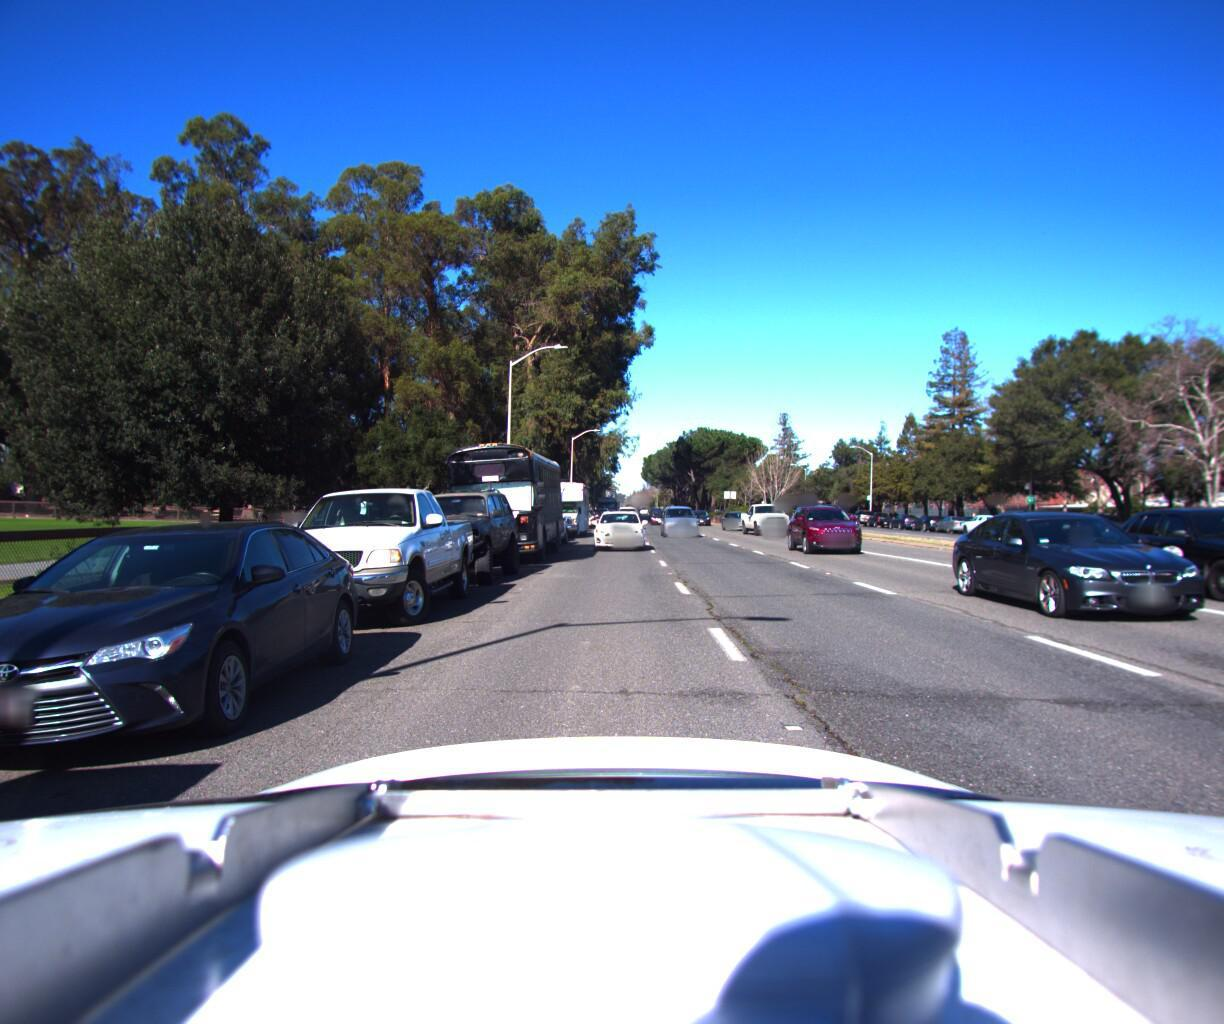bus: (430, 431, 568, 571)
car: (0, 514, 382, 806), (229, 477, 479, 644), (954, 501, 1224, 638), (1079, 502, 1224, 613), (386, 481, 525, 593), (963, 505, 1122, 576), (786, 500, 879, 555), (590, 505, 648, 551), (514, 504, 570, 548), (740, 498, 798, 534), (658, 502, 703, 538), (721, 506, 761, 528), (930, 513, 975, 532), (909, 513, 950, 530), (884, 511, 921, 528), (615, 503, 640, 526), (689, 506, 714, 523)
other_vehicle: (528, 472, 591, 538)
